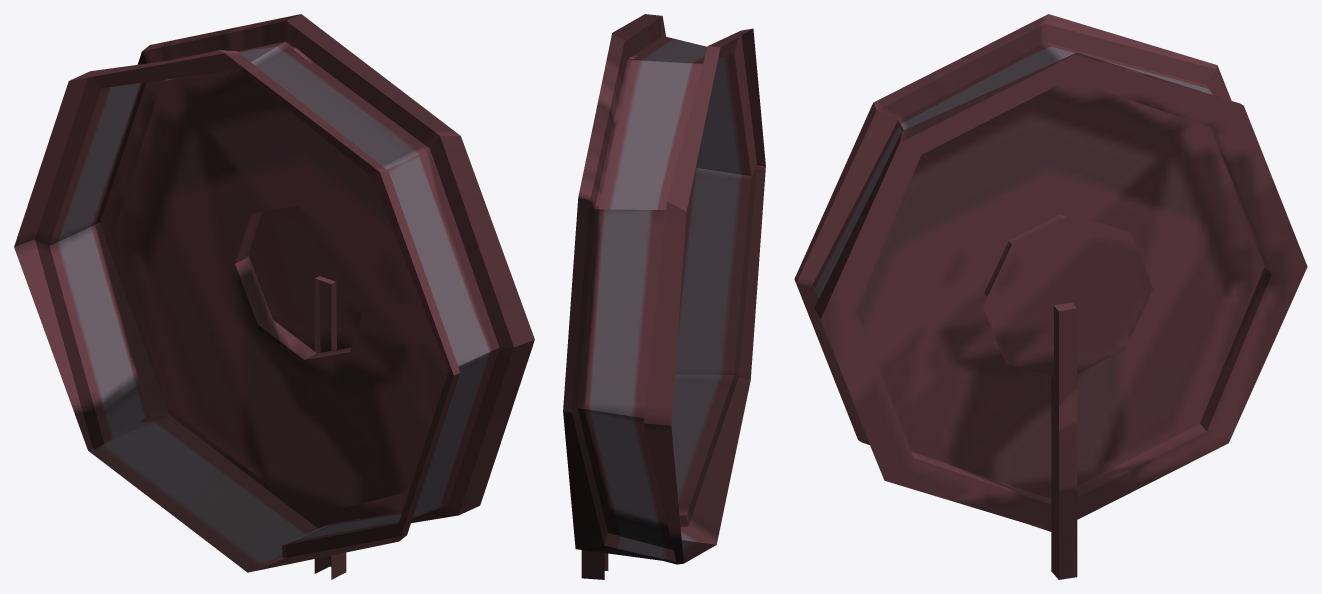
The model's file is Tx_Interior_Work_Flowerahop_ferriswheel.fbx.
3 renders of one model, left to right at view 1: azimuth 30°, elevation 25°; view 2: azimuth 150°, elevation 25°; view 3: azimuth 270°, elevation 25°, orthographic. The views are drawn at different scales.
Parts seen in each view (by area): view 1: polySurface4, polySurface3; view 2: polySurface4, polySurface3; view 3: polySurface4, polySurface3.
Part boxes in pixels (left/top/right/bottom): polySurface4: left=14, top=14, right=534, bottom=572; polySurface3: left=314, top=276, right=346, bottom=579; polySurface4: left=563, top=14, right=765, bottom=564; polySurface3: left=581, top=550, right=608, bottom=579; polySurface4: left=794, top=14, right=1307, bottom=531; polySurface3: left=1051, top=302, right=1077, bottom=579.
Size of the model in its own units: 1.93 by 3.87 by 3.53.
Materials: 1 (1 with a texture image).
